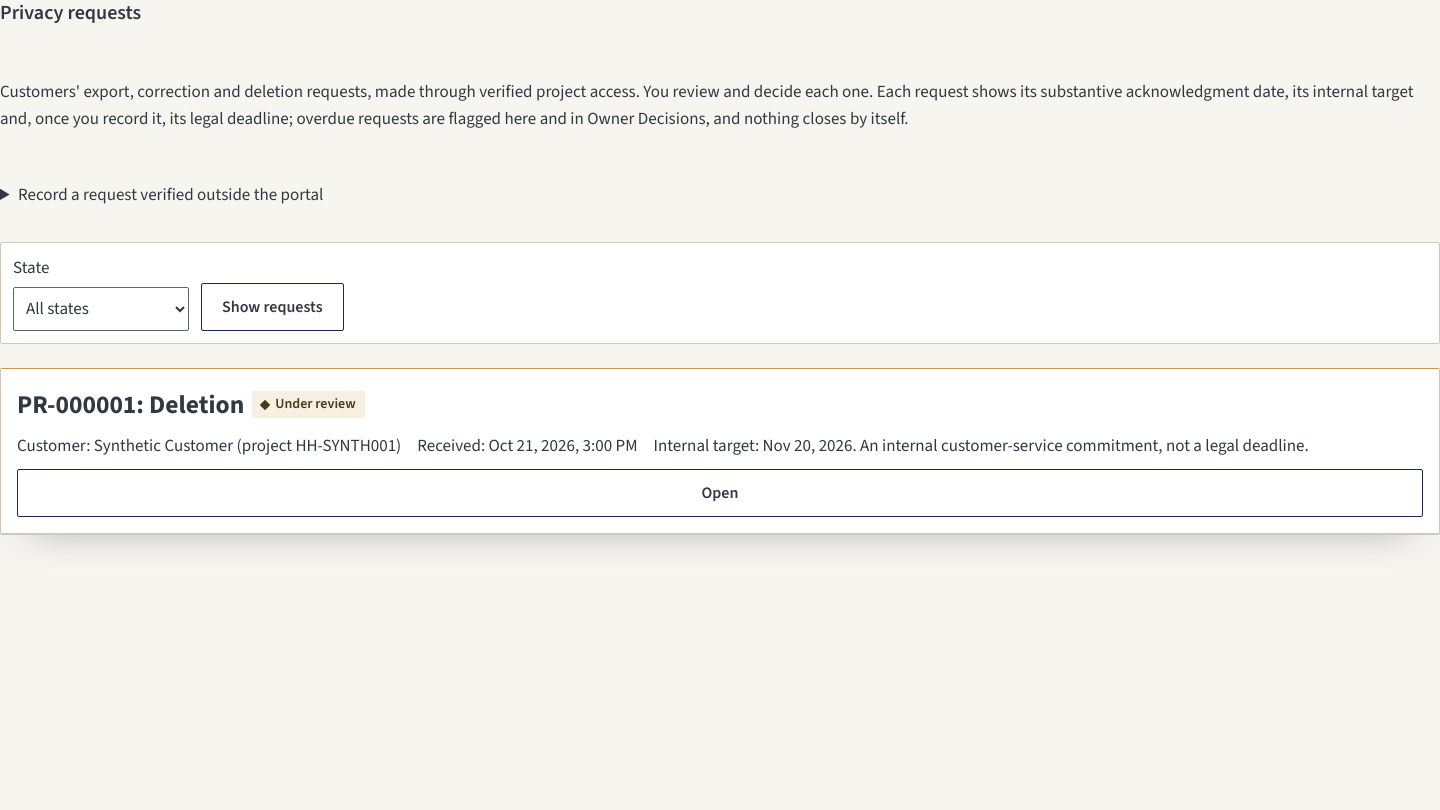
Scenario: privacy requests screen (TSK-0100, HH-PRIV-03) › [HH-PRIV-03] lists requests and shows the scoped search: deleted, retained with why, others left out, not recorded
The image size is (1440, 810).
Expected: the text "Under review" is shown, [252,392,365,418]
Click the button "Open".
click(720, 492)  # box [17,468,1423,516]
(page scrolled)
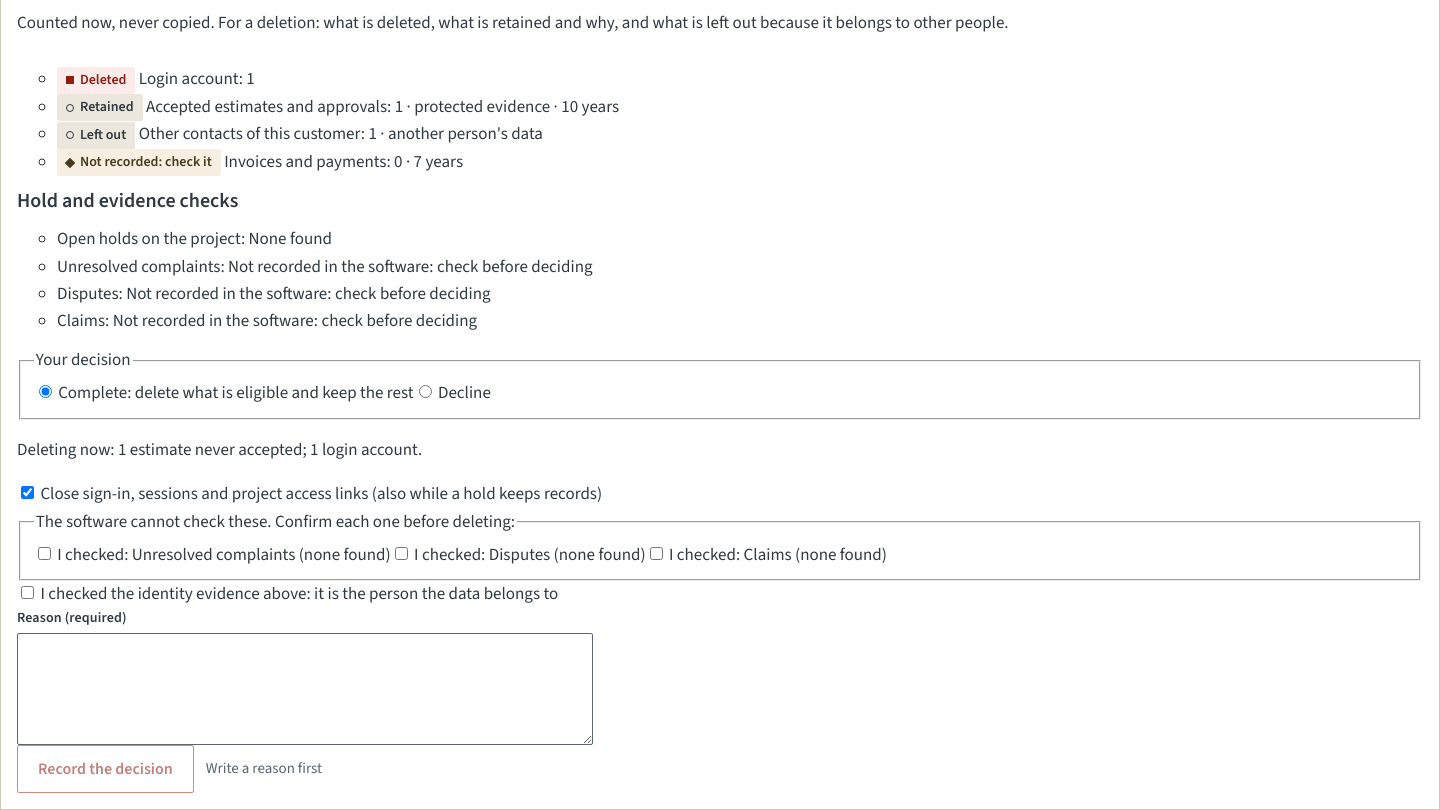
Result: the list item "Deleted Login account: 1" is shown at [57,67,255,94]
Result: the list item "Accepted estimates and approvals: 1 · protected evidence · 10 years" is shown at [57,94,619,122]
Result: the list item "Other contacts of this customer: 1 · another person's data" is shown at [57,122,543,149]
